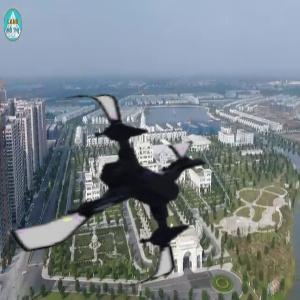drone: (2, 86, 216, 300)
